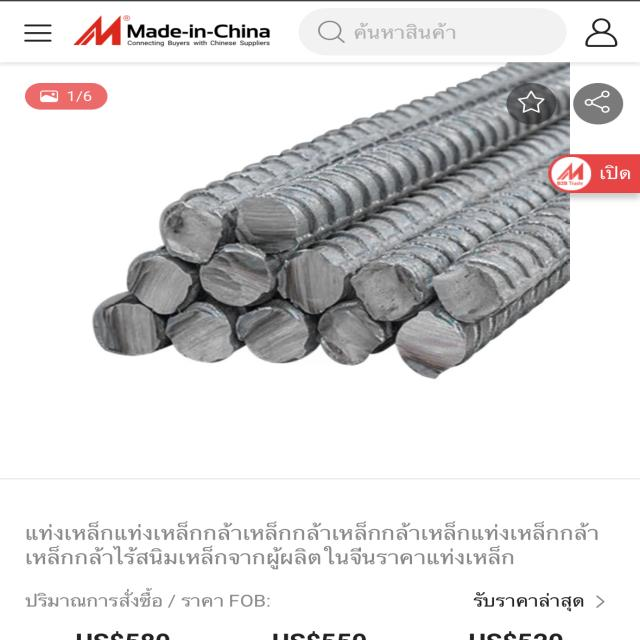Rebar: (442, 256, 534, 320), (354, 255, 435, 325), (121, 244, 199, 312), (316, 301, 396, 367), (193, 242, 274, 307), (396, 304, 465, 371), (88, 298, 164, 358), (277, 241, 344, 308), (246, 303, 317, 366), (235, 193, 306, 253), (159, 197, 220, 260), (171, 305, 233, 361)
